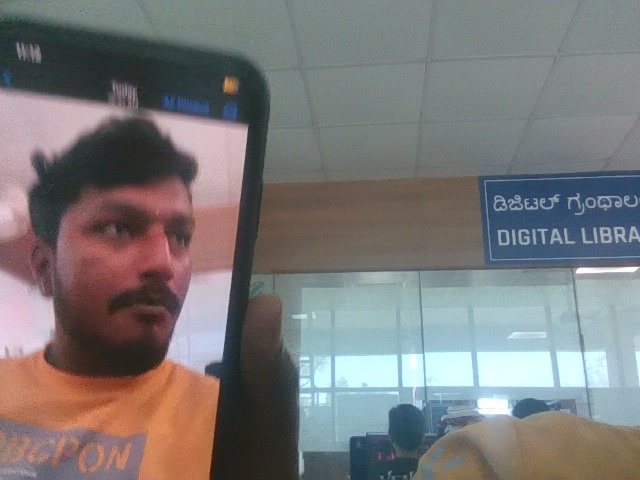fake: (34, 103, 221, 368)
